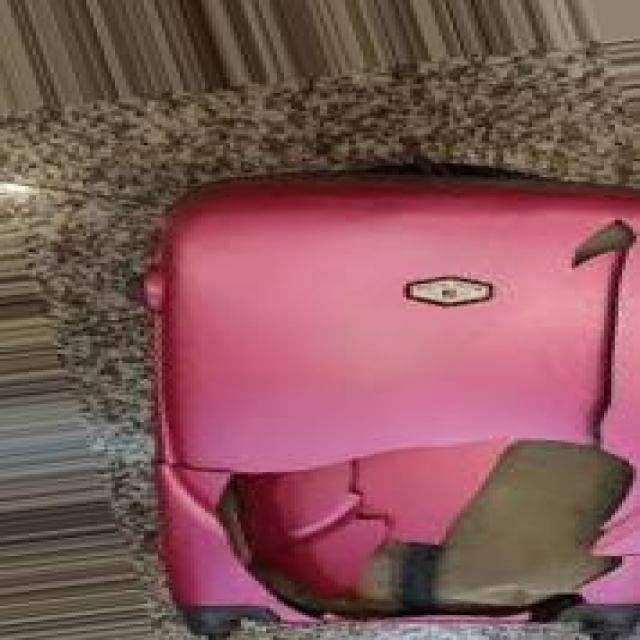Damage-bag: (170, 221, 636, 619)
